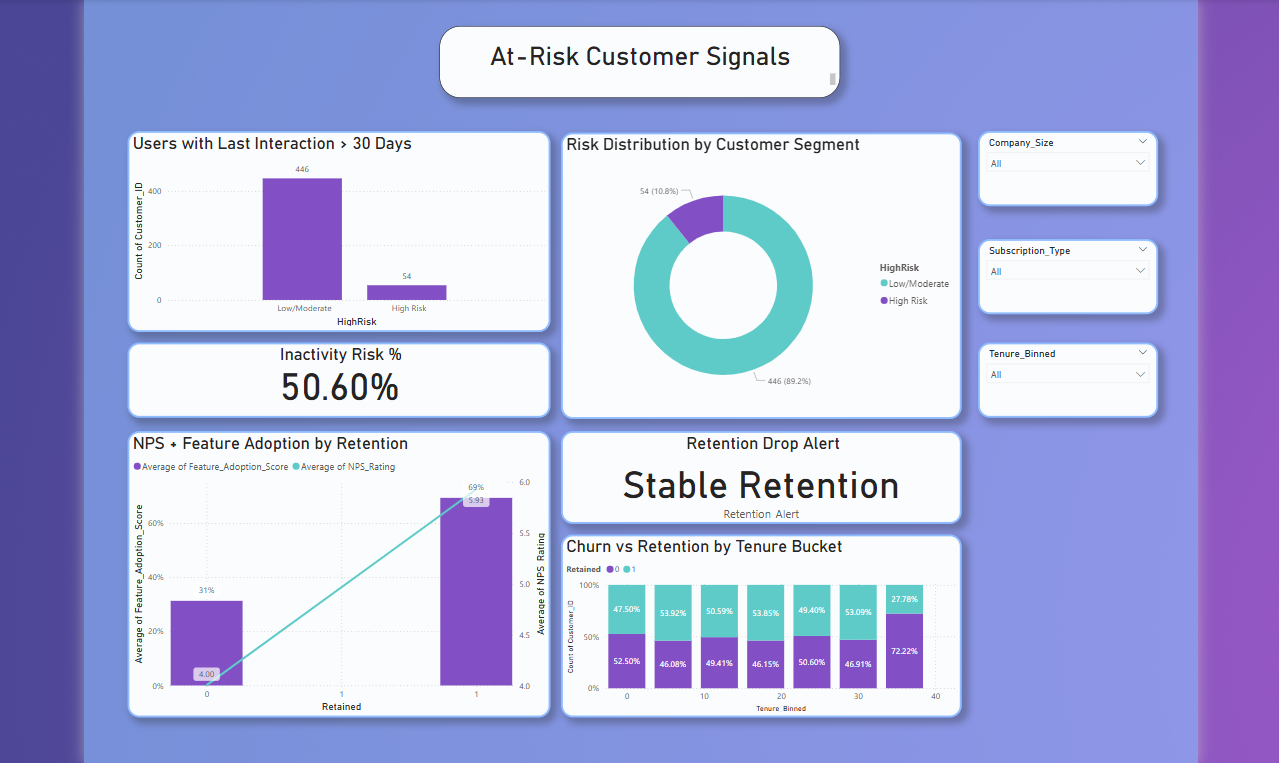

Layout of this report page (visuals, bound fields, positions):
{"tool":"powerbi","page":{"name":"Page 4","canvas":[1600,1100],"ordinal":3},"visuals":[{"type":"clusteredColumnChart","title":"Users with Last Interaction > 30 Days","fields":{"Y":["Count(Feature_Usage_Retention_Dataset.Customer_ID)"],"Category":["Feature_Usage_Retention_Dataset.HighRisk"]},"box":[62.5,189.6,607.5,288.6],"z":0},{"type":"card","title":"Inactivity Risk %","fields":{"Values":["Feature_Usage_Retention_Dataset.Inactive_Risk_Percentv"]},"box":[62.5,493.3,607.5,107.7],"z":1000},{"type":"lineStackedColumnComboChart","title":"NPS + Feature Adoption by Retention","fields":{"Category":["Feature_Usage_Retention_Dataset.Retained"],"Y":["Avg(Feature_Usage_Retention_Dataset.Feature_Adoption_Score)"],"Y2":["Avg(Feature_Usage_Retention_Dataset.NPS_Rating)"]},"box":[62.5,620.4,607.5,411.4],"z":2000},{"type":"card","title":"Retention Drop Alert","fields":{"Values":["Feature_Usage_Retention_Dataset.Retention_Alert"]},"box":[685,620.4,575.1,133.6],"z":3000},{"type":"slicer","title":"NPS vs Login Frequency (by Retention)","fields":{"Values":["Feature_Usage_Retention_Dataset.Company_Size"]},"box":[1283.8,189.6,258.5,107.7],"z":4000},{"type":"slicer","title":"NPS vs Login Frequency (by Retention)","fields":{"Values":["Feature_Usage_Retention_Dataset.Tenure_Binned"]},"box":[1283.8,493.3,258.5,107.7],"z":5000},{"type":"slicer","title":"NPS vs Login Frequency (by Retention)","fields":{"Values":["Feature_Usage_Retention_Dataset.Subscription_Type"]},"box":[1283.8,344.7,258.5,107.7],"z":6000},{"type":"textbox","title":"At-Risk Customer Signals","box":[510.5,38.8,575.1,103.4],"z":7000},{"type":"donutChart","title":"Risk Distribution by Customer Segment","fields":{"Category":["Feature_Usage_Retention_Dataset.HighRisk"],"Y":["Count(Feature_Usage_Retention_Dataset.Customer_ID)"]},"box":[685,191.7,575.1,411.4],"z":8000},{"type":"hundredPercentStackedColumnChart","title":"Churn vs Retention by Tenure Bucket","fields":{"Series":["Feature_Usage_Retention_Dataset.Retained"],"Category":["Feature_Usage_Retention_Dataset.Tenure_Binned"],"Y":["Count(Feature_Usage_Retention_Dataset.Customer_ID)"]},"box":[685,769,575.1,262.8],"z":9000}]}

Visuals, with their boxes on the page's 1600x1100 design canvas (x1, y1, x2, y2). These are canvas units, not pixel positions in the 1279x763 screenshot, which may show the page scaled, cropped or inside an application window:
"Users with Last Interaction > 30 Days" clusteredColumnChart: 62,190,670,478
"Inactivity Risk %" card: 62,493,670,601
"NPS + Feature Adoption by Retention" lineStackedColumnComboChart: 62,620,670,1032
"Retention Drop Alert" card: 685,620,1260,754
"NPS vs Login Frequency (by Retention)" slicer: 1284,190,1542,297
"NPS vs Login Frequency (by Retention)" slicer: 1284,493,1542,601
"NPS vs Login Frequency (by Retention)" slicer: 1284,345,1542,452
"At-Risk Customer Signals" textbox: 510,39,1086,142
"Risk Distribution by Customer Segment" donutChart: 685,192,1260,603
"Churn vs Retention by Tenure Bucket" hundredPercentStackedColumnChart: 685,769,1260,1032
